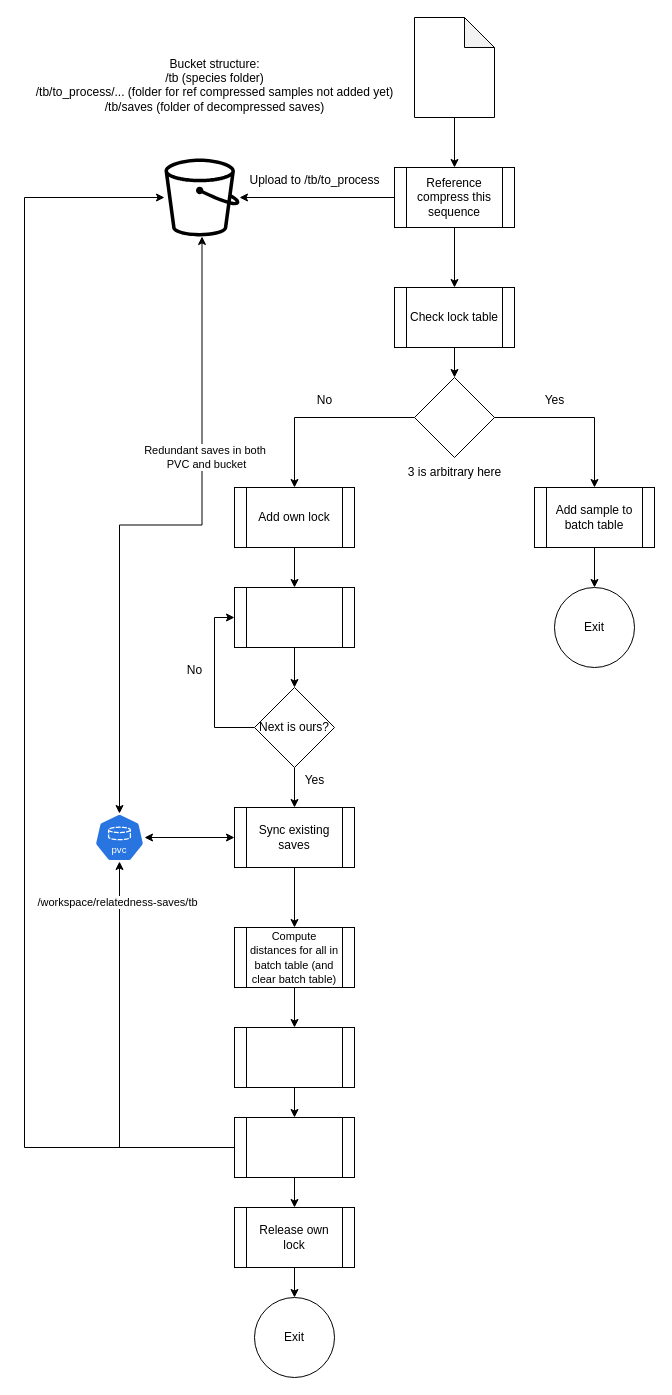
The diagram is 672 pixels wide and 1395 high, and some of its shapes have lost their labels. Each missing label, with the centre of its shape:
>3 locks exist?: point (454, 417)
Check which is next lock: point (294, 617)
FASTA: point (454, 67)
Update saves with added batch: point (294, 1147)
Upload distances to distance table: point (294, 1057)
